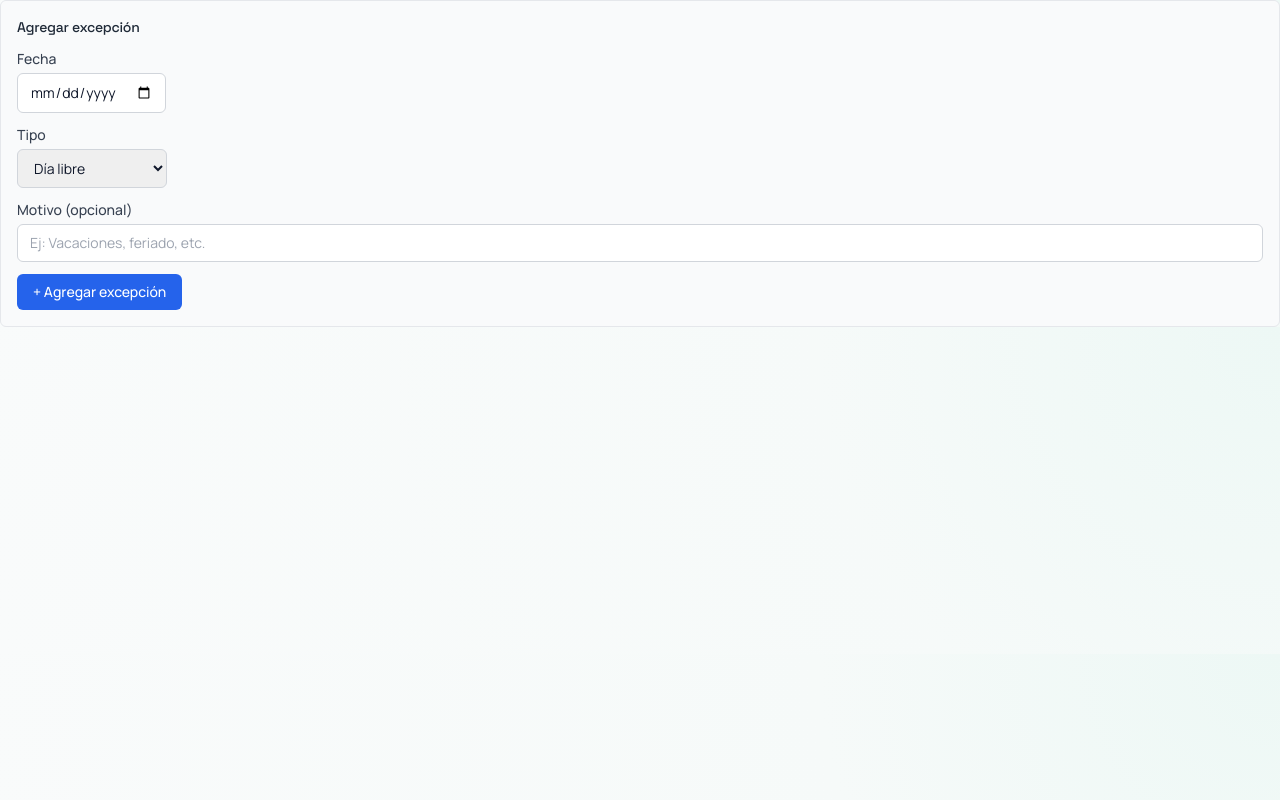
Test: ExceptionDateForm › shows time error for invalid range in custom_hours mode
This screenshot has width=1280, height=800.
In the date field labelled "Fecha": [92, 93] box [17, 73, 166, 113], type "2025-12-26"
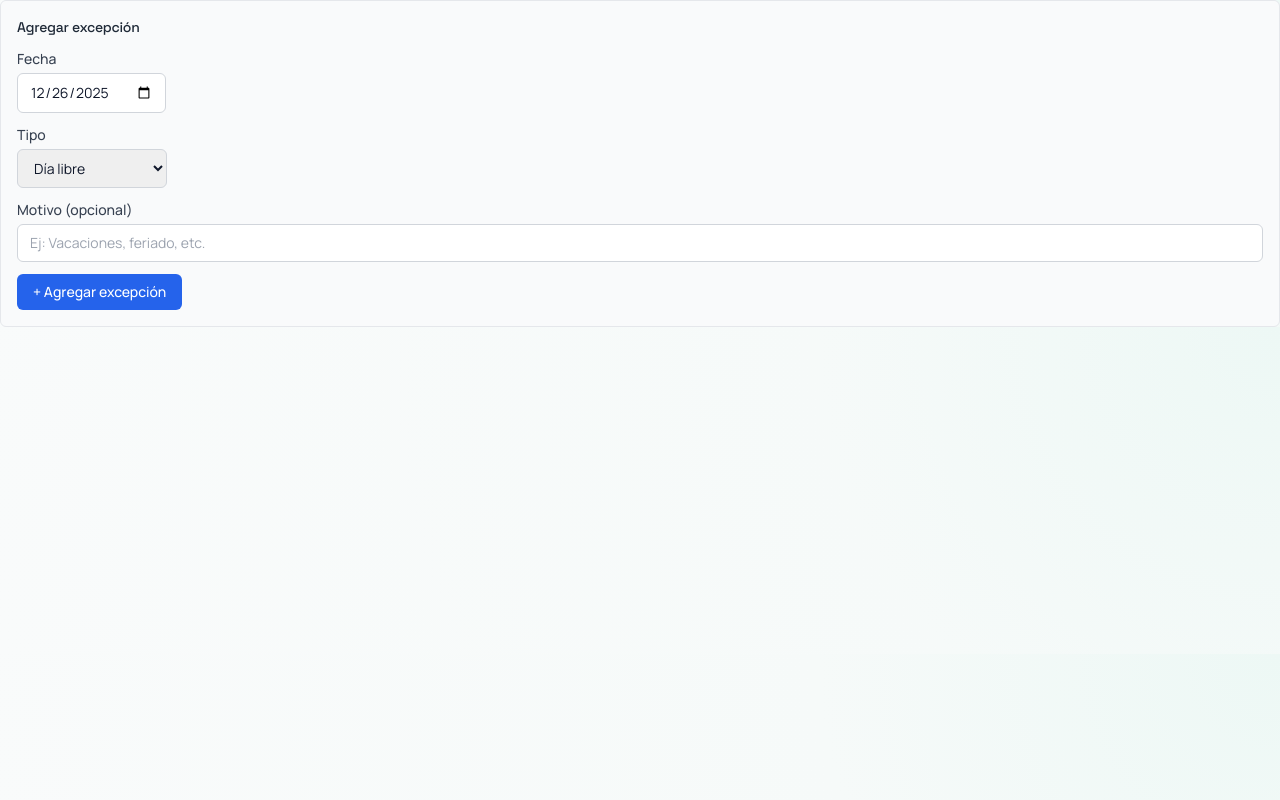
Select "Horario especial" in the dropdown labelled "Tipo": [92, 168] box [17, 149, 167, 188]
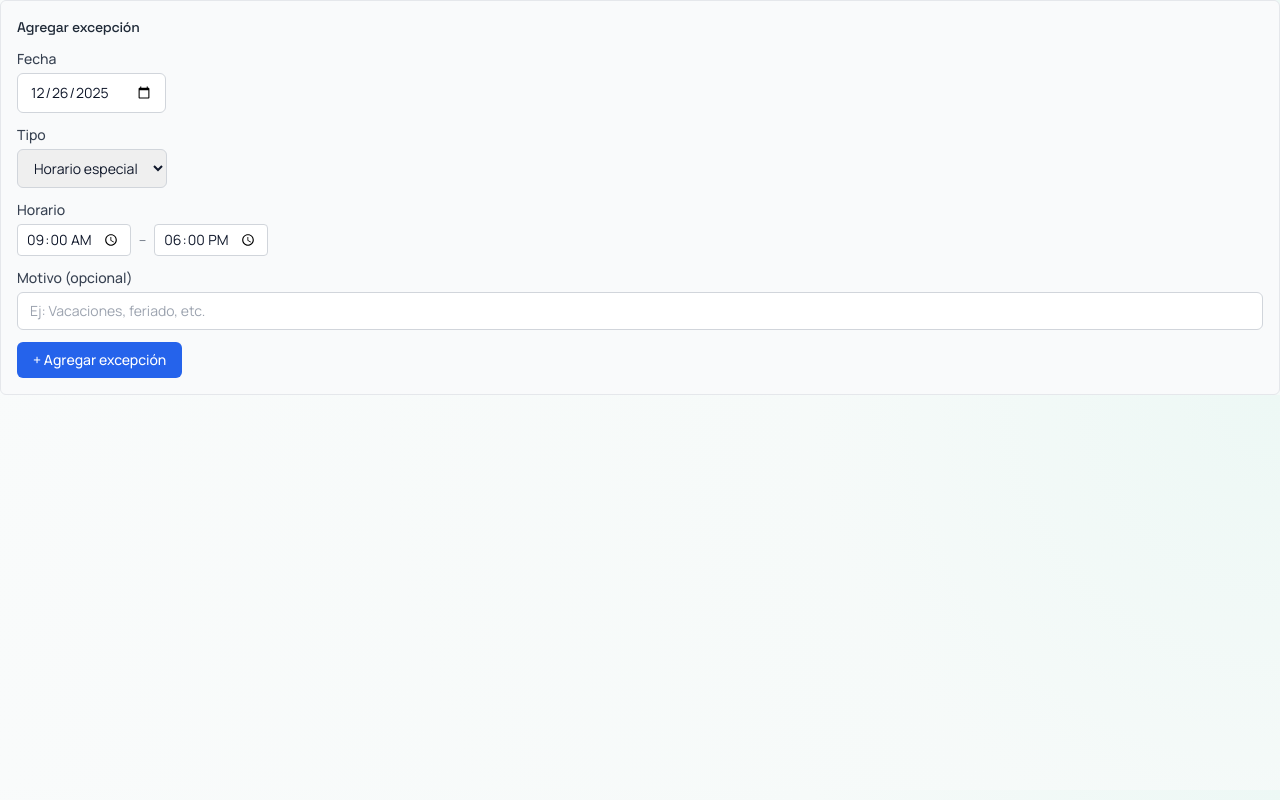
Replace the text in the time field named "Hora de inicio" with "18:00": [74, 240] box [17, 224, 131, 256]
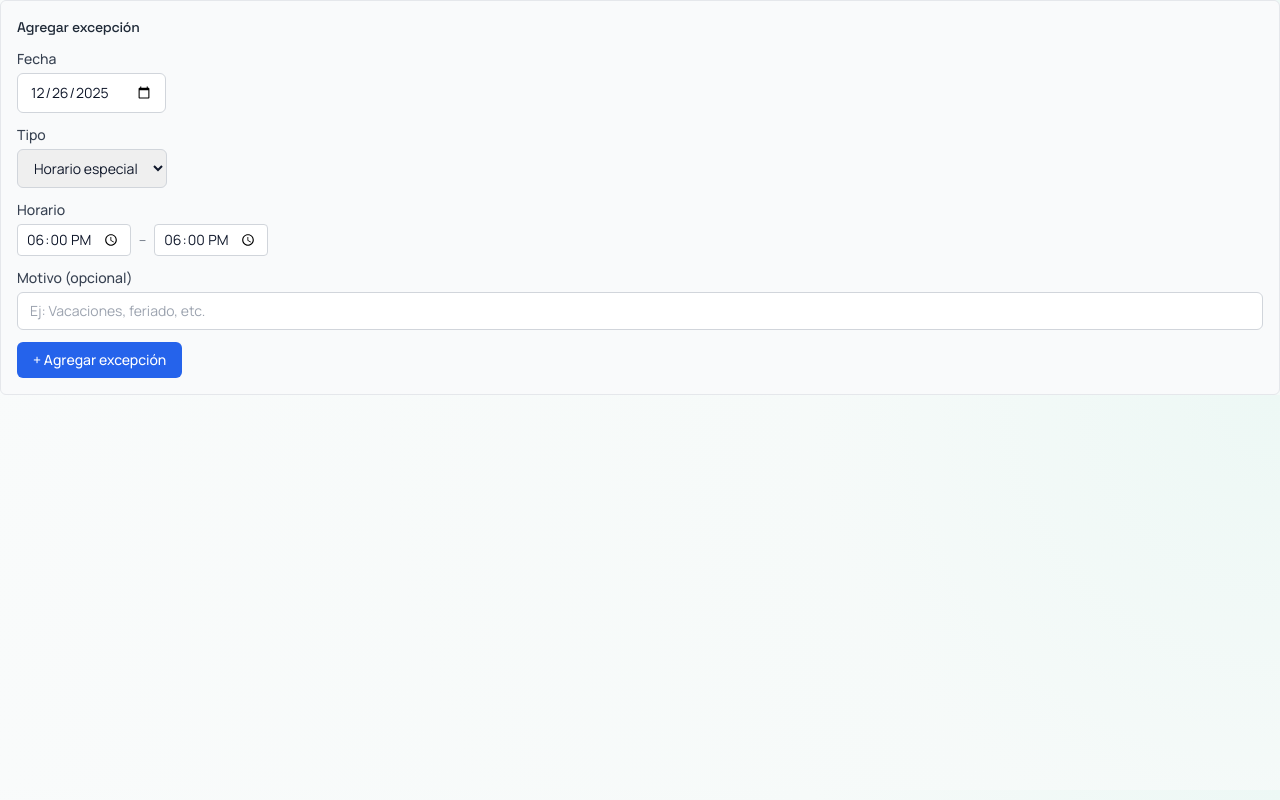
Replace the text in the time field named "Hora de fin" with "09:00": [211, 240] box [154, 224, 268, 256]
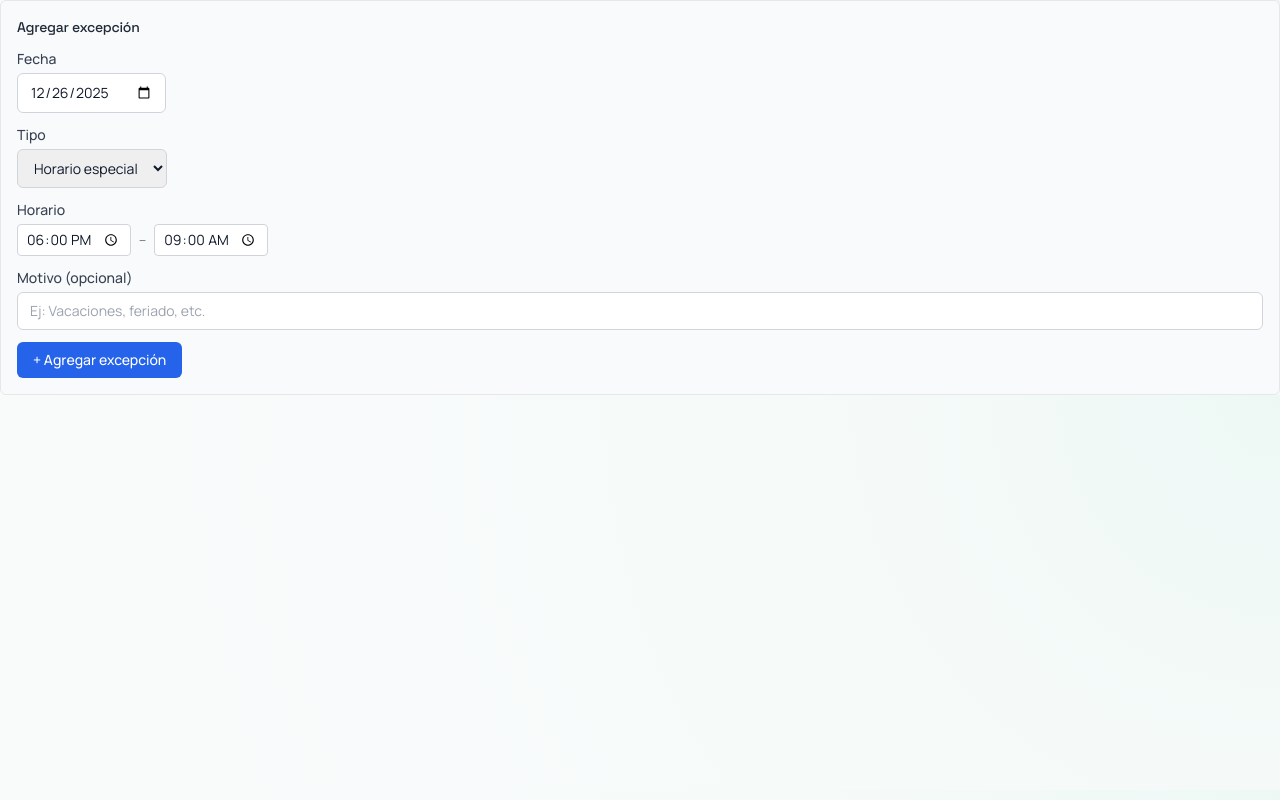
Click the button "+ Agregar excepción": [100, 360] box [17, 342, 182, 378]
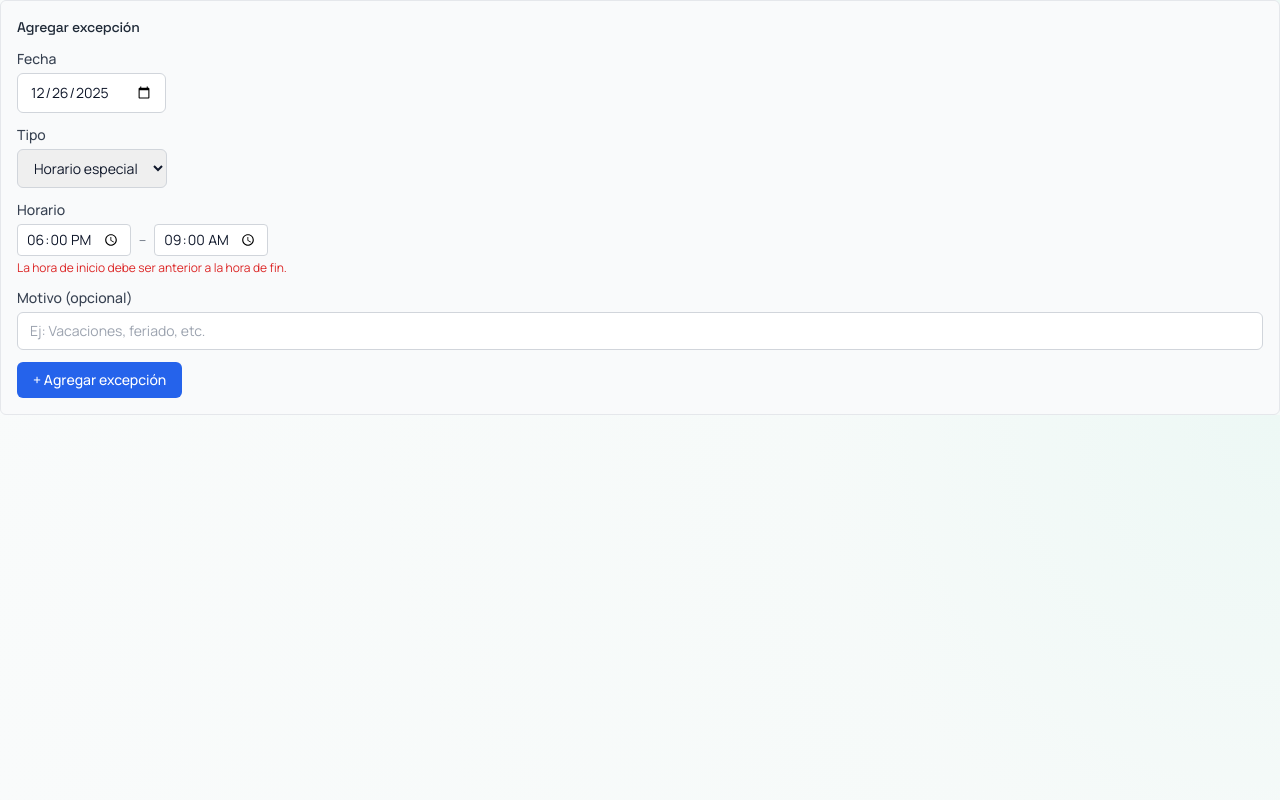
Check: the text "La hora de inicio debe ser anterior a la hora de fin." is shown, box [17, 259, 287, 276]
